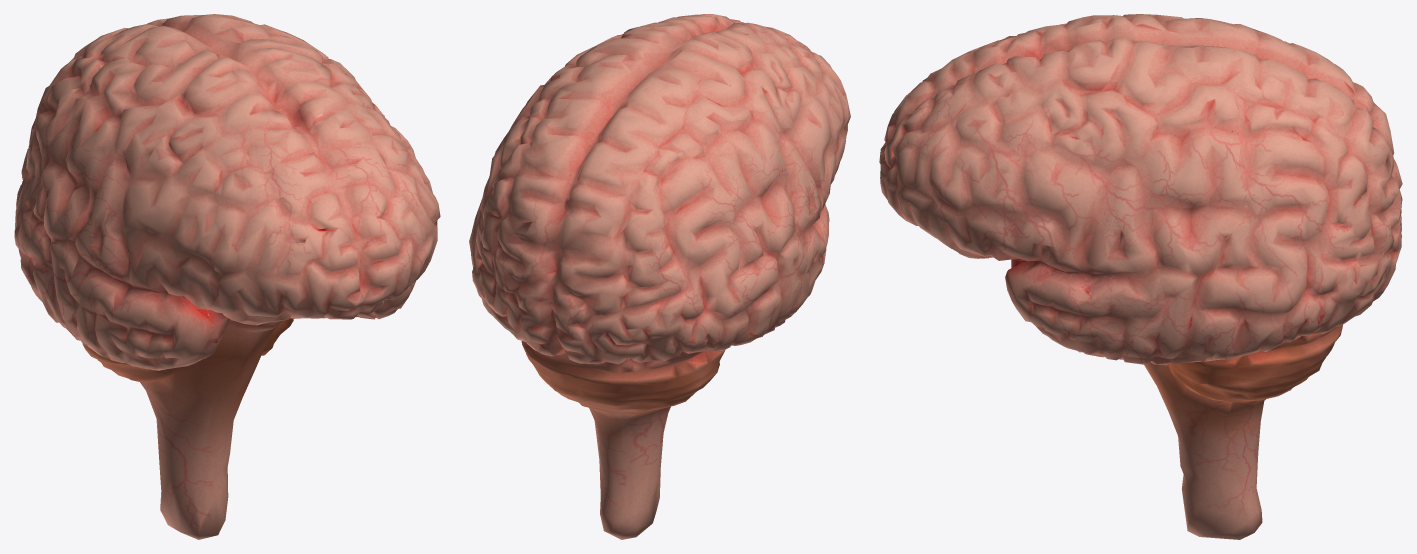
The model's file is SurgeryRoom.glb.
The picture shows the model from 3 angles, left to right: view 1: azimuth 30°, elevation 25°; view 2: azimuth 150°, elevation 25°; view 3: azimuth 270°, elevation 25°; orthographic projection. The views are drawn at different scales.
Parts seen in each view (by area): view 1: Icosphere__0; view 2: Icosphere__0; view 3: Icosphere__0.
Boxes of the visible parts, box(x1,y1,x2,y2) form: Icosphere__0: box(14, 14, 440, 539); Icosphere__0: box(469, 14, 850, 539); Icosphere__0: box(879, 14, 1402, 539).
Bounding box in the file's own units: 2.36 × 3.63 × 3.41.
Materials: 1 (1 with a texture image).
